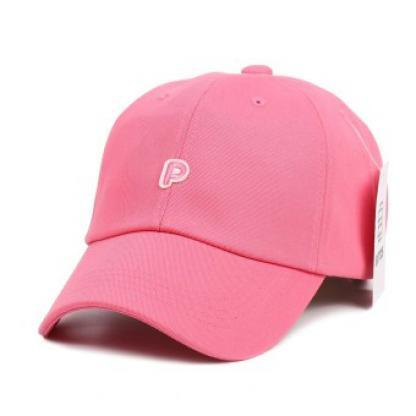cap: (21, 55, 402, 365)
